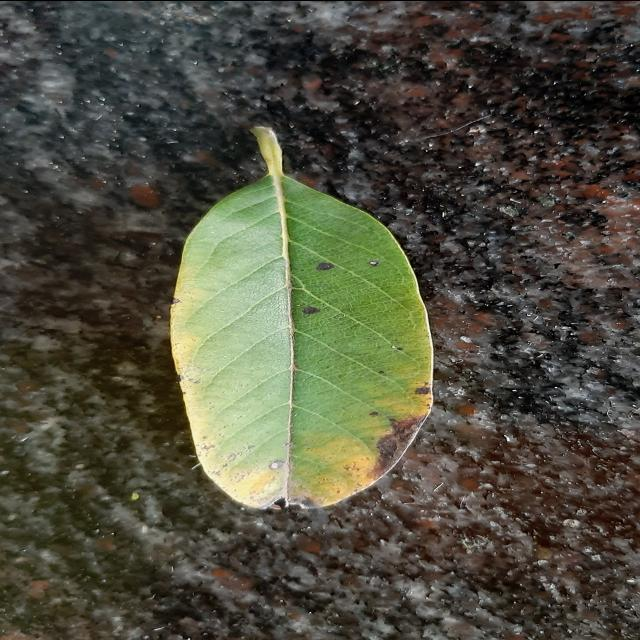leaf: (168, 125, 434, 511)
